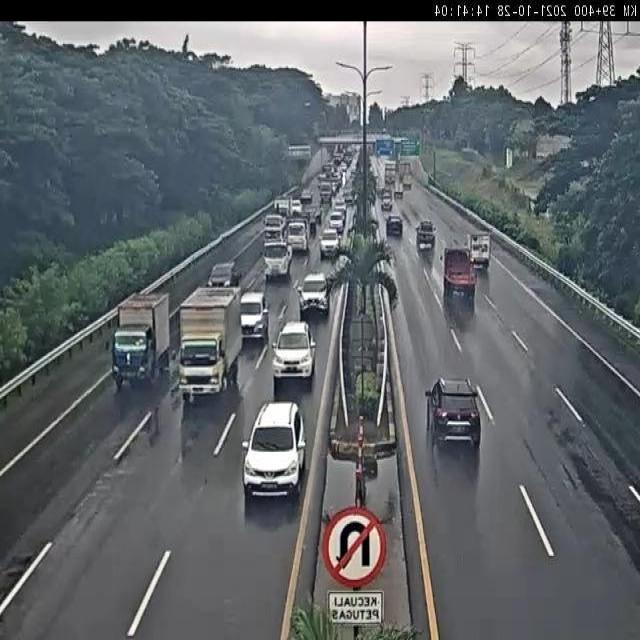Car: (242, 399, 307, 504), (425, 379, 483, 451), (271, 319, 317, 386), (239, 290, 270, 342), (298, 271, 331, 316), (203, 260, 240, 286), (319, 227, 340, 258), (328, 210, 345, 235), (386, 215, 403, 238)
Truck: (178, 285, 244, 400), (113, 291, 171, 390), (437, 244, 477, 298), (262, 240, 294, 280), (464, 232, 494, 272), (287, 220, 309, 255), (263, 214, 286, 241)
